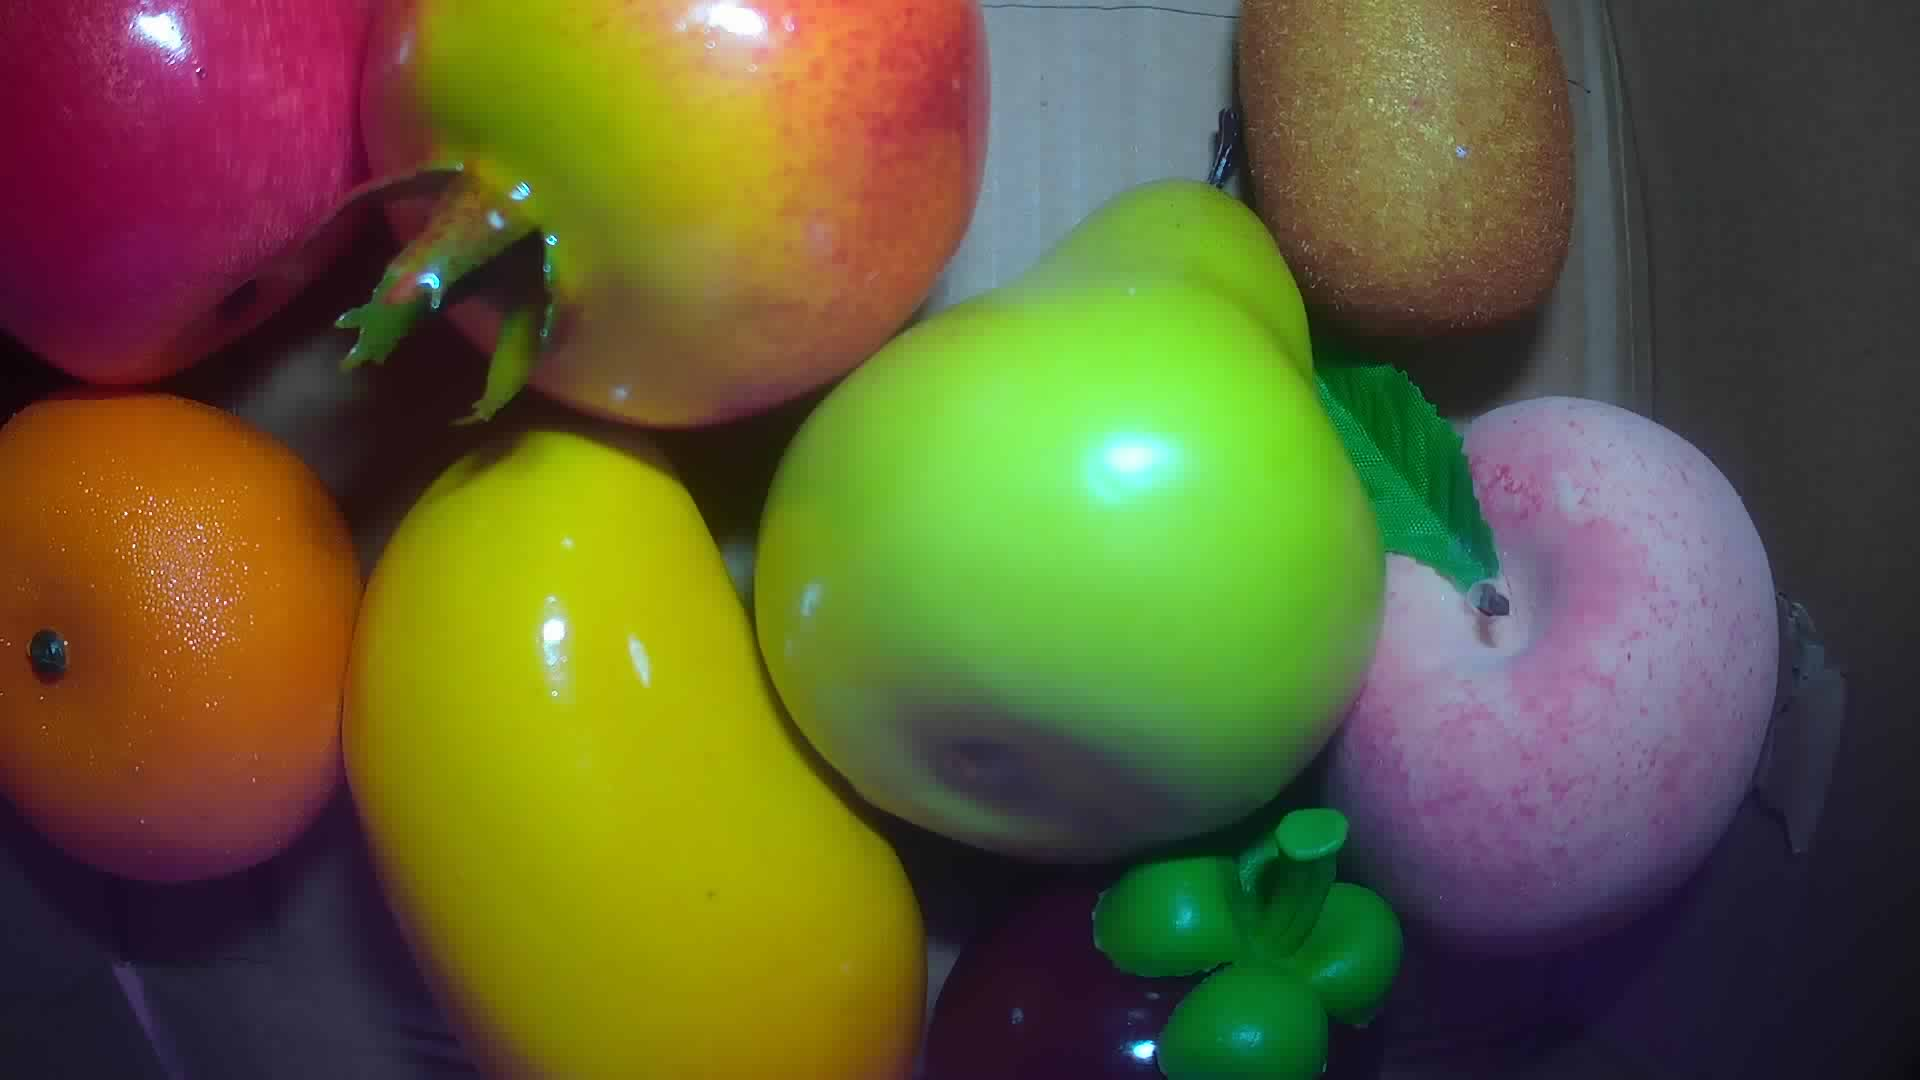apple: (1, 1, 390, 392)
kiwi: (1236, 1, 1575, 336)
mango: (342, 425, 930, 1080)
mangosteen: (924, 808, 1414, 1080)
orange: (1, 388, 360, 895)
peach: (1317, 393, 1778, 943)
pear: (752, 179, 1389, 866)
pomegranate: (330, 1, 992, 433)
